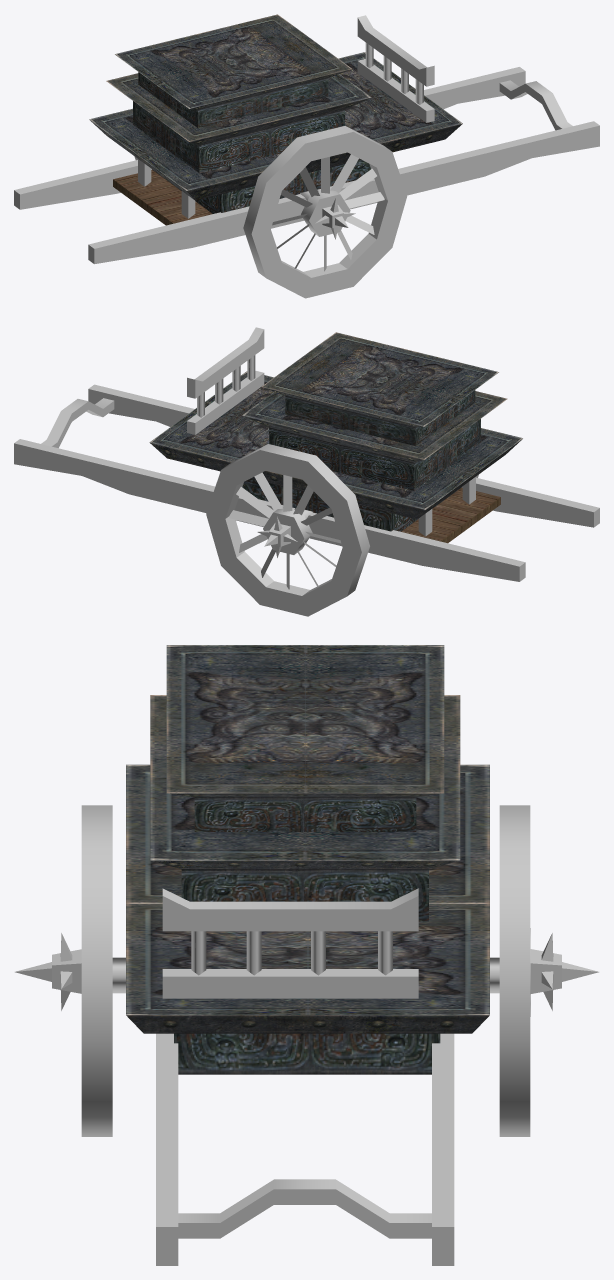
The model's file is zhanche_yc_40.FBX.
The picture shows the model from 3 angles, top to bottom: view 1: azimuth 30°, elevation 25°; view 2: azimuth 150°, elevation 25°; view 3: azimuth 270°, elevation 25°; orthographic projection. The views are drawn at different scales.
Parts seen in each view (by area): view 1: zhanche_40; view 2: zhanche_40; view 3: zhanche_40.
Boxes of the visible parts, left/top/right/bottom form: zhanche_40: left=14, top=14, right=599, bottom=298; zhanche_40: left=14, top=327, right=599, bottom=616; zhanche_40: left=15, top=645, right=598, bottom=1265.
Size of what is drawn, in the model's own units: 728 by 269 by 393.
